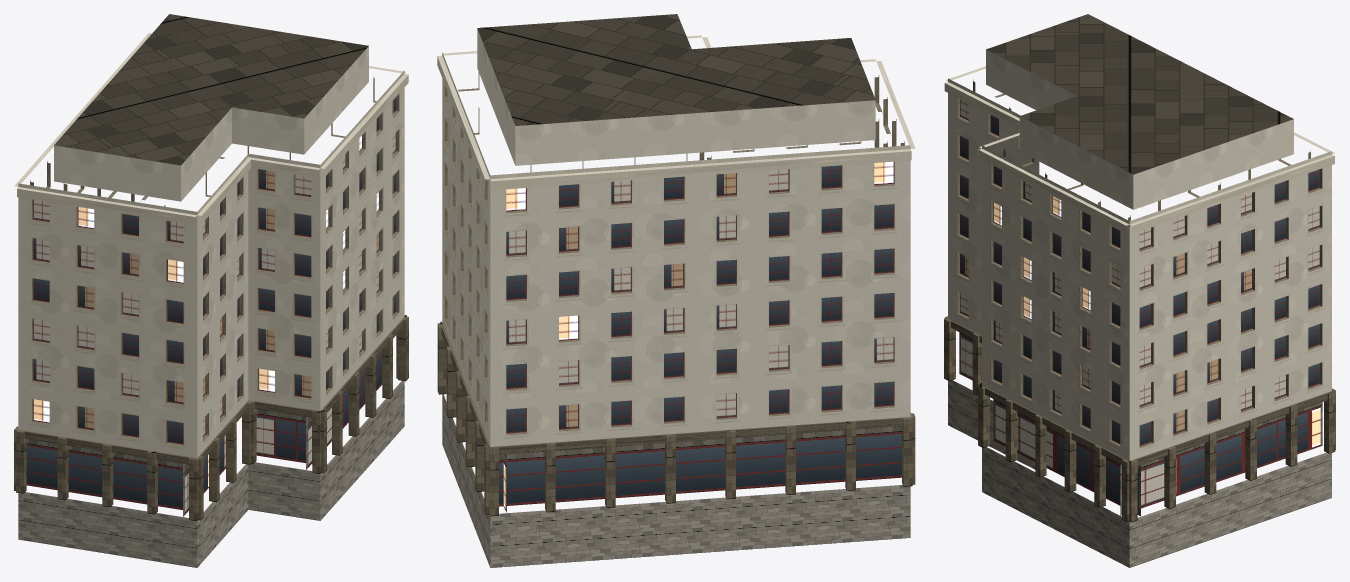
Rendered from k39w3_schimmeltor.glb.
3 views of the same model, side by side, from view 1: azimuth 30°, elevation 25°; view 2: azimuth 150°, elevation 25°; view 3: azimuth 270°, elevation 25° (orthographic). The views are drawn at different scales.
Visible parts, largest first — view 1: k39w3_schimmeltor; view 2: k39w3_schimmeltor; view 3: k39w3_schimmeltor.
Boxes of the visible parts, x1=… form: k39w3_schimmeltor: x1=14, y1=14, x2=408, y2=567; k39w3_schimmeltor: x1=437, y1=14, x2=915, y2=567; k39w3_schimmeltor: x1=944, y1=14, x2=1335, y2=567.
Bounding box in the file's own units: 31.08 × 27.9 × 26.26.
3 materials, 3 textured.
